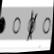correct: (0, 12, 7, 36)
no answer: (40, 15, 52, 36), (11, 13, 21, 36)
not correct: (25, 8, 38, 41)
